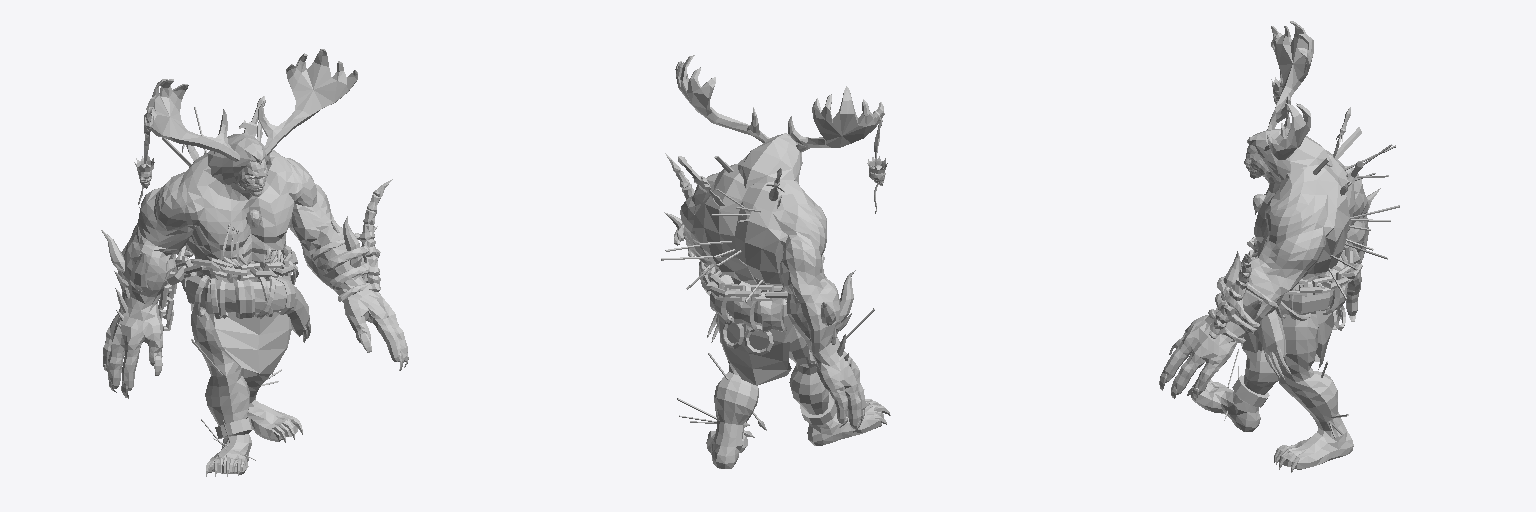
The model's file is walking_000022.obj.
3 renders of one model, left to right at view 1: azimuth 30°, elevation 25°; view 2: azimuth 150°, elevation 25°; view 3: azimuth 270°, elevation 25°, orthographic.
Visible parts, largest first — view 1: MAW; view 2: MAW; view 3: MAW.
Boxes of the visible parts, x1,y1,x2,y2 form: MAW: [101, 49, 408, 476]; MAW: [661, 55, 890, 468]; MAW: [1159, 21, 1399, 472].
Size of the model in its own units: 14.99 by 23.09 by 13.02.